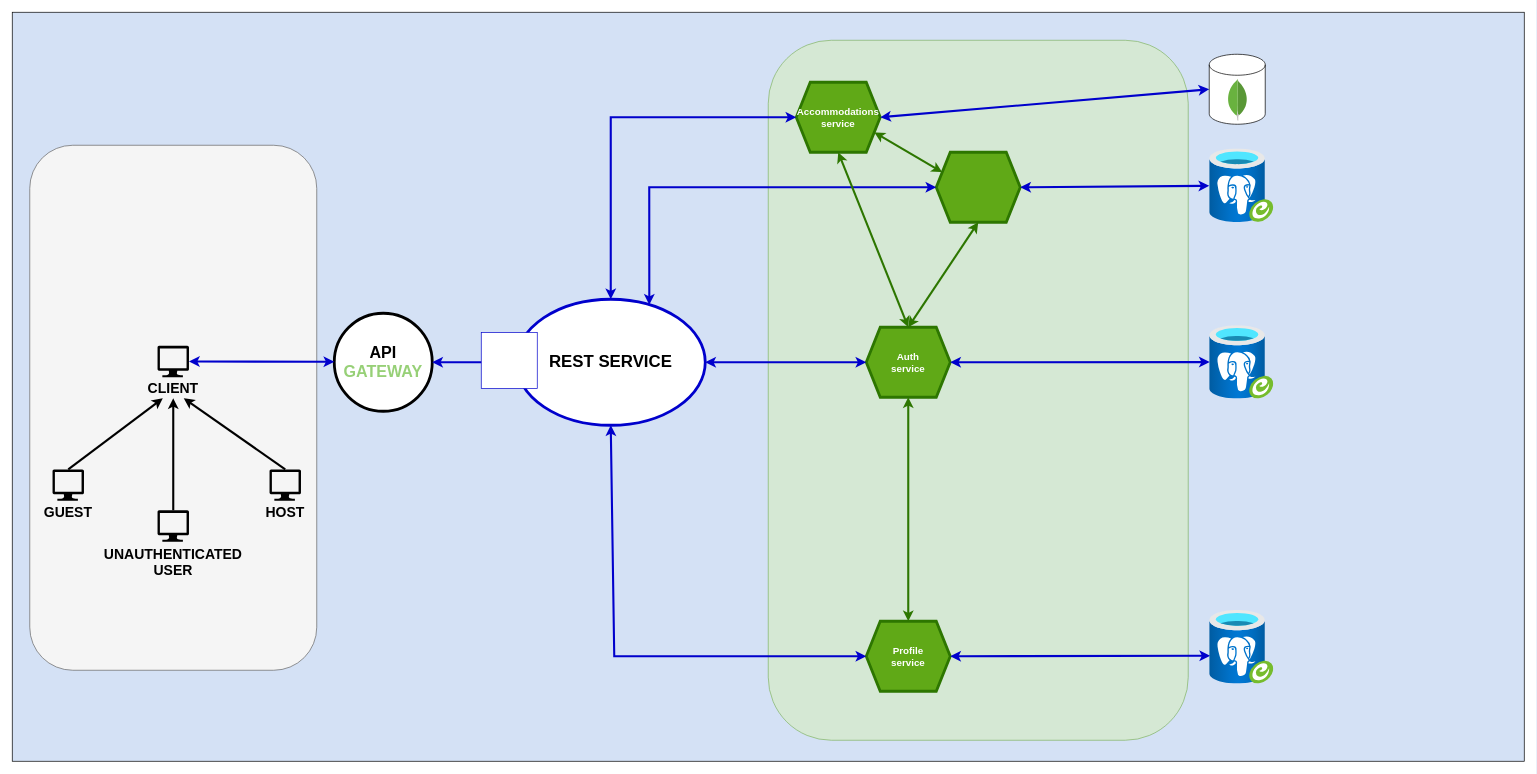
This 1537x774 diagram has some shape labels left out. Here are the shapes that lost their labels. From the top down, the box of each, then its label:
(934, 150, 1021, 223): Reservations service
(481, 332, 537, 388): REST API
